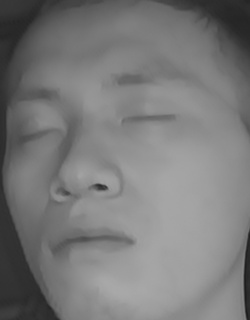blink: (116, 104, 181, 141), (11, 122, 70, 154)
mouth: (44, 215, 140, 270)
